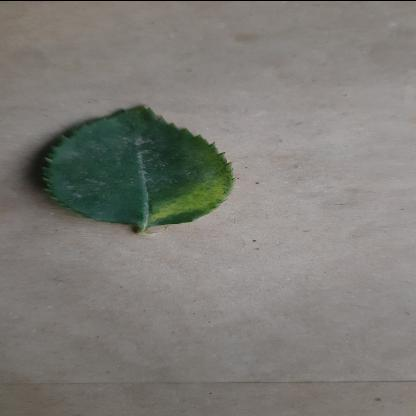downy-mildew: (34, 103, 232, 226)
